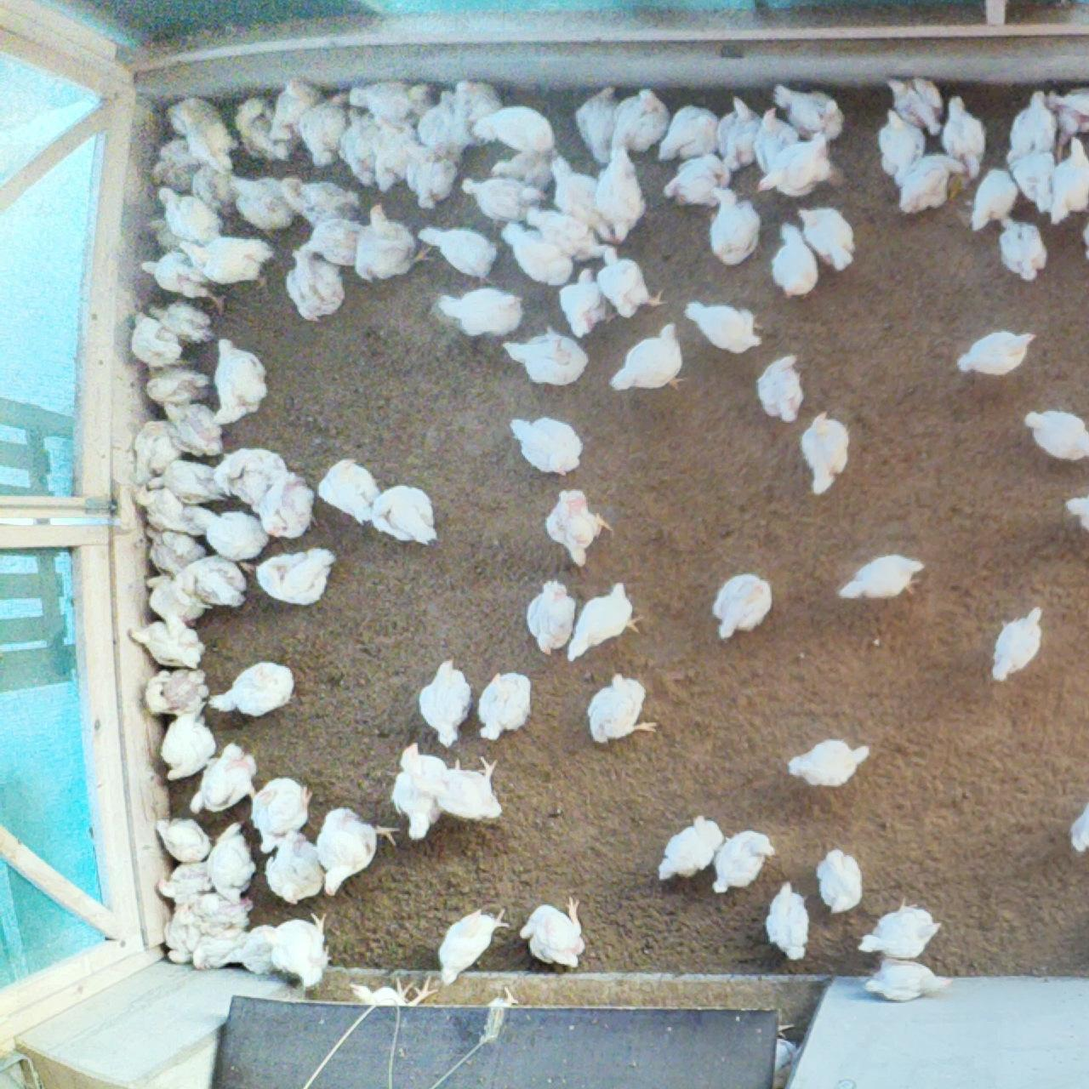chicken: (314, 804, 400, 902), (410, 750, 509, 824), (349, 200, 435, 284), (548, 151, 621, 246), (432, 902, 512, 988), (563, 579, 642, 665), (757, 129, 846, 204), (134, 249, 232, 317), (254, 536, 339, 613), (605, 316, 687, 395), (582, 669, 659, 751), (260, 905, 333, 991), (497, 321, 593, 385), (856, 892, 945, 961), (389, 738, 448, 842), (204, 334, 271, 425), (539, 487, 614, 568), (590, 138, 648, 242), (516, 892, 591, 972), (185, 738, 260, 818), (177, 230, 280, 288), (949, 325, 1042, 388), (651, 808, 727, 884), (416, 655, 477, 749), (594, 242, 670, 317), (502, 412, 587, 478), (497, 218, 576, 289), (365, 483, 447, 551), (283, 242, 347, 329), (180, 501, 271, 562), (431, 283, 530, 339), (249, 772, 314, 856), (207, 658, 298, 718), (415, 222, 506, 282), (986, 599, 1048, 686), (834, 550, 933, 604), (604, 84, 674, 160), (796, 409, 855, 499), (707, 570, 773, 650), (992, 208, 1058, 288), (865, 953, 959, 1009), (314, 454, 385, 527), (708, 824, 779, 897), (211, 442, 289, 508), (704, 183, 765, 267), (680, 298, 768, 356), (768, 76, 845, 142), (166, 553, 252, 612), (261, 831, 326, 908), (782, 735, 871, 791), (458, 174, 547, 229), (553, 264, 620, 337), (120, 613, 207, 669), (763, 875, 817, 965), (205, 817, 260, 905), (794, 201, 861, 273), (894, 154, 969, 218), (472, 102, 562, 155), (156, 709, 220, 783), (279, 171, 367, 224), (159, 396, 226, 465), (254, 470, 316, 544), (767, 218, 821, 302), (1045, 131, 1089, 234), (939, 91, 989, 181), (656, 97, 724, 163), (659, 153, 736, 211), (477, 669, 539, 741), (346, 76, 438, 124), (883, 71, 947, 140), (229, 174, 299, 237), (572, 77, 623, 163), (524, 575, 578, 656), (144, 458, 231, 508), (753, 346, 806, 427), (522, 206, 603, 259), (294, 211, 369, 268), (874, 104, 928, 183), (268, 75, 325, 149), (368, 110, 417, 196), (334, 101, 381, 190), (232, 94, 295, 160), (153, 182, 221, 243), (448, 76, 508, 145), (1020, 403, 1089, 463), (133, 484, 210, 536), (295, 88, 345, 168), (403, 137, 458, 208), (136, 573, 207, 628), (417, 84, 471, 156), (967, 162, 1018, 236), (1004, 86, 1055, 160), (815, 845, 867, 916), (182, 112, 239, 176), (714, 92, 763, 166), (123, 305, 186, 362), (1007, 147, 1059, 215), (346, 972, 439, 1010), (484, 150, 557, 197), (147, 296, 218, 344), (750, 102, 797, 174), (139, 664, 210, 711), (139, 523, 208, 571), (128, 418, 179, 478), (153, 814, 214, 864), (1043, 80, 1089, 146), (189, 886, 255, 931), (145, 366, 213, 409), (189, 926, 252, 971), (236, 921, 284, 978), (146, 141, 201, 190), (192, 162, 237, 219), (150, 859, 214, 899), (160, 96, 221, 136), (164, 899, 195, 965), (1063, 792, 1089, 857), (145, 214, 188, 251), (1061, 490, 1089, 529)
